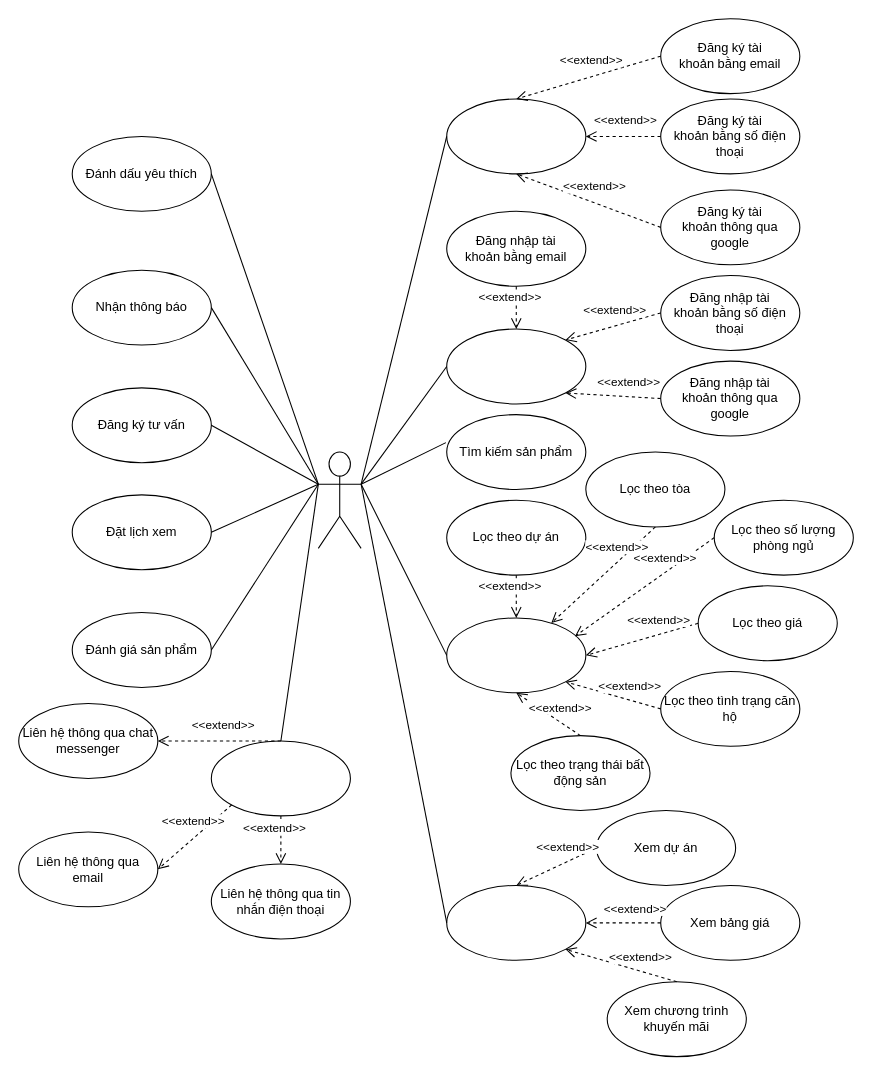
Image size: 872x1075. Some labels were removed from this diagram. The box of each missing label's shape, as (x1, y1, x2, y2) in pixels:
Khách hàng: (317, 451, 361, 548)
Liên hệ với công ty bất động sản: (210, 740, 350, 816)
Lọc thông tin: (446, 617, 586, 693)
Xem thông tin: (446, 884, 586, 960)
Đăng ký nhập tài khoản: (446, 328, 586, 404)
Đăng ký tài khoản: (446, 98, 586, 174)
